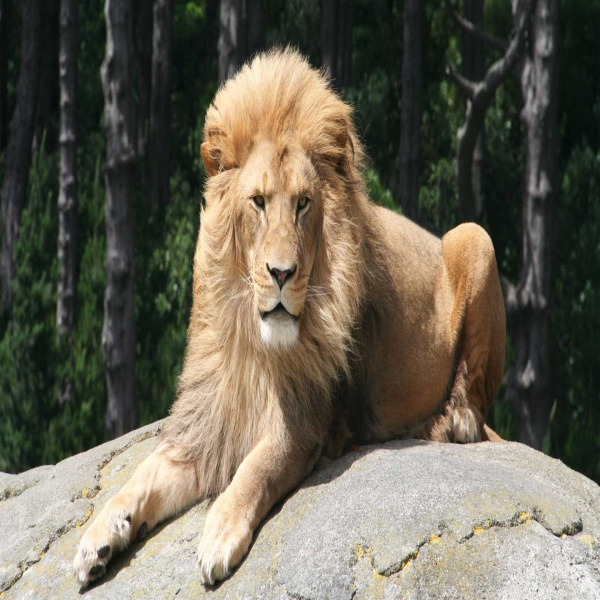Lion: (71, 43, 512, 591)
